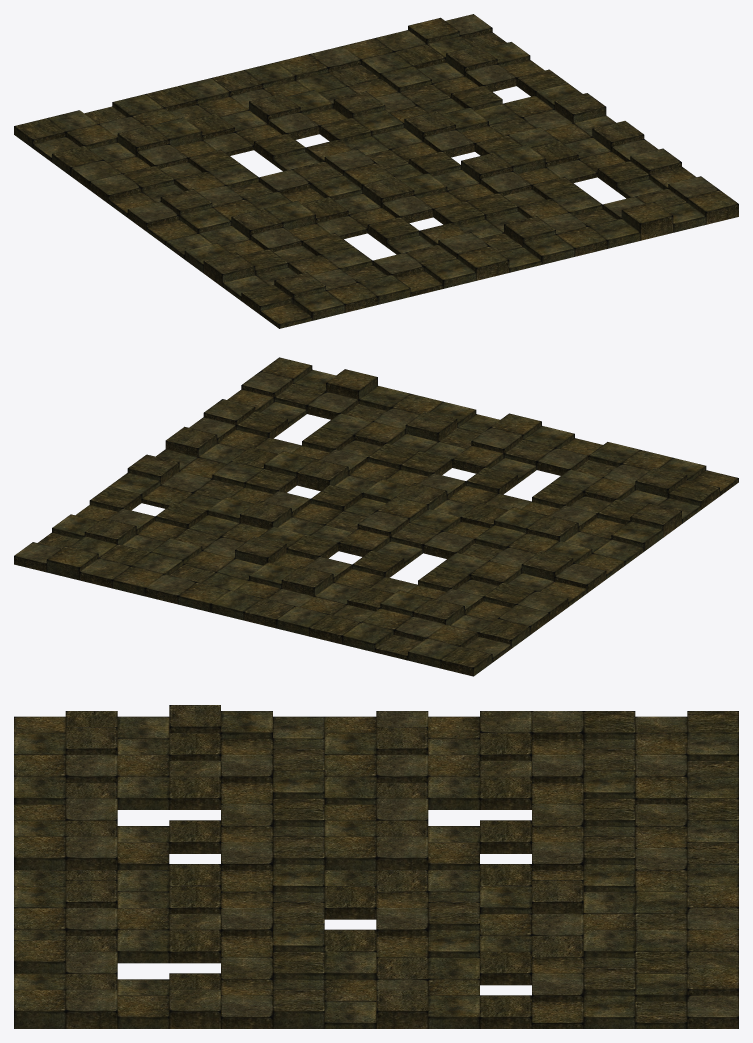
The model's file is wooddungeonInt1.gltf.
The picture shows the model from 3 angles, top to bottom: view 1: azimuth 30°, elevation 25°; view 2: azimuth 150°, elevation 25°; view 3: azimuth 270°, elevation 25°; orthographic projection. The views are drawn at different scales.
Parts seen in each view (by area): view 1: wooddungeonInt1; view 2: wooddungeonInt1; view 3: wooddungeonInt1.
Boxes of the visible parts, box(x1,y1,x2,y2) form: wooddungeonInt1: box(14, 14, 738, 328); wooddungeonInt1: box(14, 357, 738, 676); wooddungeonInt1: box(14, 705, 738, 1028).
Size of the model in its own units: 28 by 1 by 28.
1 material, 1 textured.
